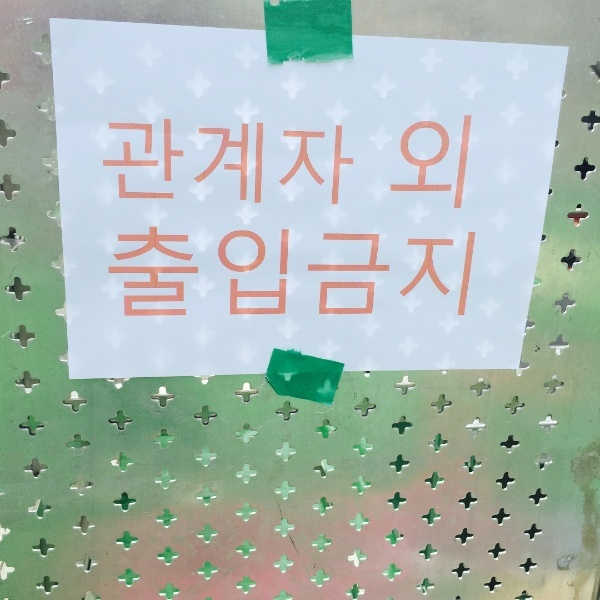text: (401, 113, 416, 213), (417, 113, 432, 213), (433, 113, 448, 213), (449, 113, 464, 213), (113, 226, 128, 321), (129, 226, 144, 321), (145, 226, 160, 321), (161, 226, 176, 321), (177, 226, 192, 321), (193, 226, 208, 321), (209, 226, 224, 321), (225, 226, 240, 321), (241, 226, 256, 321), (257, 226, 272, 321), (273, 226, 288, 321), (289, 226, 304, 321), (305, 226, 320, 321), (321, 226, 336, 321), (337, 226, 352, 321), (353, 226, 368, 321), (369, 226, 384, 321), (385, 226, 400, 321), (401, 226, 416, 321), (417, 226, 432, 321), (433, 226, 448, 321), (449, 226, 464, 321), (113, 117, 128, 209), (129, 117, 144, 209), (145, 117, 160, 209), (161, 117, 176, 209), (177, 117, 192, 209), (193, 117, 208, 209), (209, 117, 224, 209), (225, 117, 240, 209), (241, 117, 256, 209), (257, 117, 272, 209), (273, 117, 288, 209), (289, 117, 304, 209), (305, 117, 320, 209), (321, 117, 336, 209), (337, 117, 352, 209), (465, 226, 479, 321), (389, 113, 400, 213), (101, 117, 112, 209), (465, 113, 474, 213), (103, 226, 112, 321), (353, 117, 359, 209)
